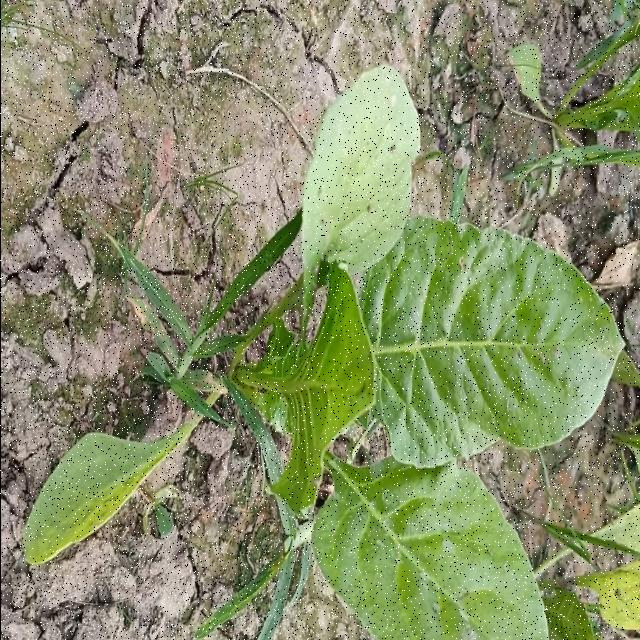plant: (111, 65, 623, 639), (22, 416, 199, 564)
